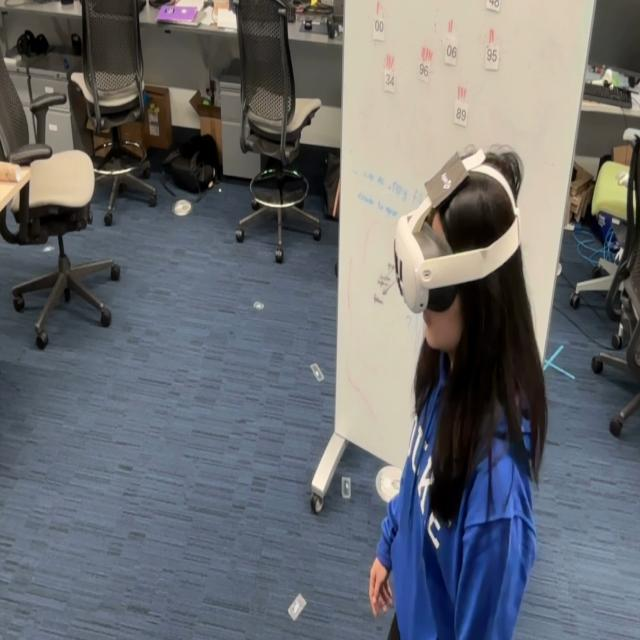Headset: (393, 147, 522, 315)
UnityLogo: (423, 147, 469, 210)
